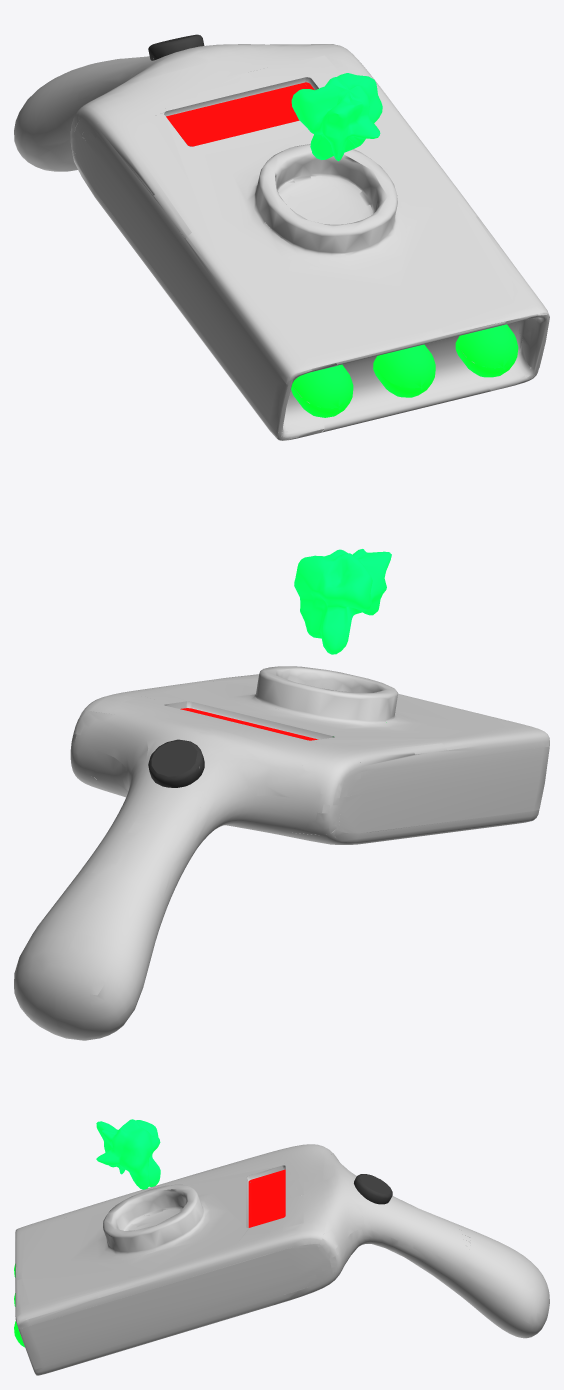
Rendered from pistola_portales.glb.
The picture shows the model from 3 angles, top to bottom: view 1: azimuth 30°, elevation 25°; view 2: azimuth 150°, elevation 25°; view 3: azimuth 270°, elevation 25°; orthographic projection. The views are drawn at different scales.
Parts seen in each view (by area): view 1: pistola_portales; view 2: pistola_portales; view 3: pistola_portales.
Boxes of the visible parts, left/top/right/bottom form: pistola_portales: left=14, top=34, right=549, bottom=440; pistola_portales: left=14, top=549, right=549, bottom=1040; pistola_portales: left=14, top=1119, right=549, bottom=1375.
Bounding box in the file's own units: 0.134 × 0.1712 × 0.32.
